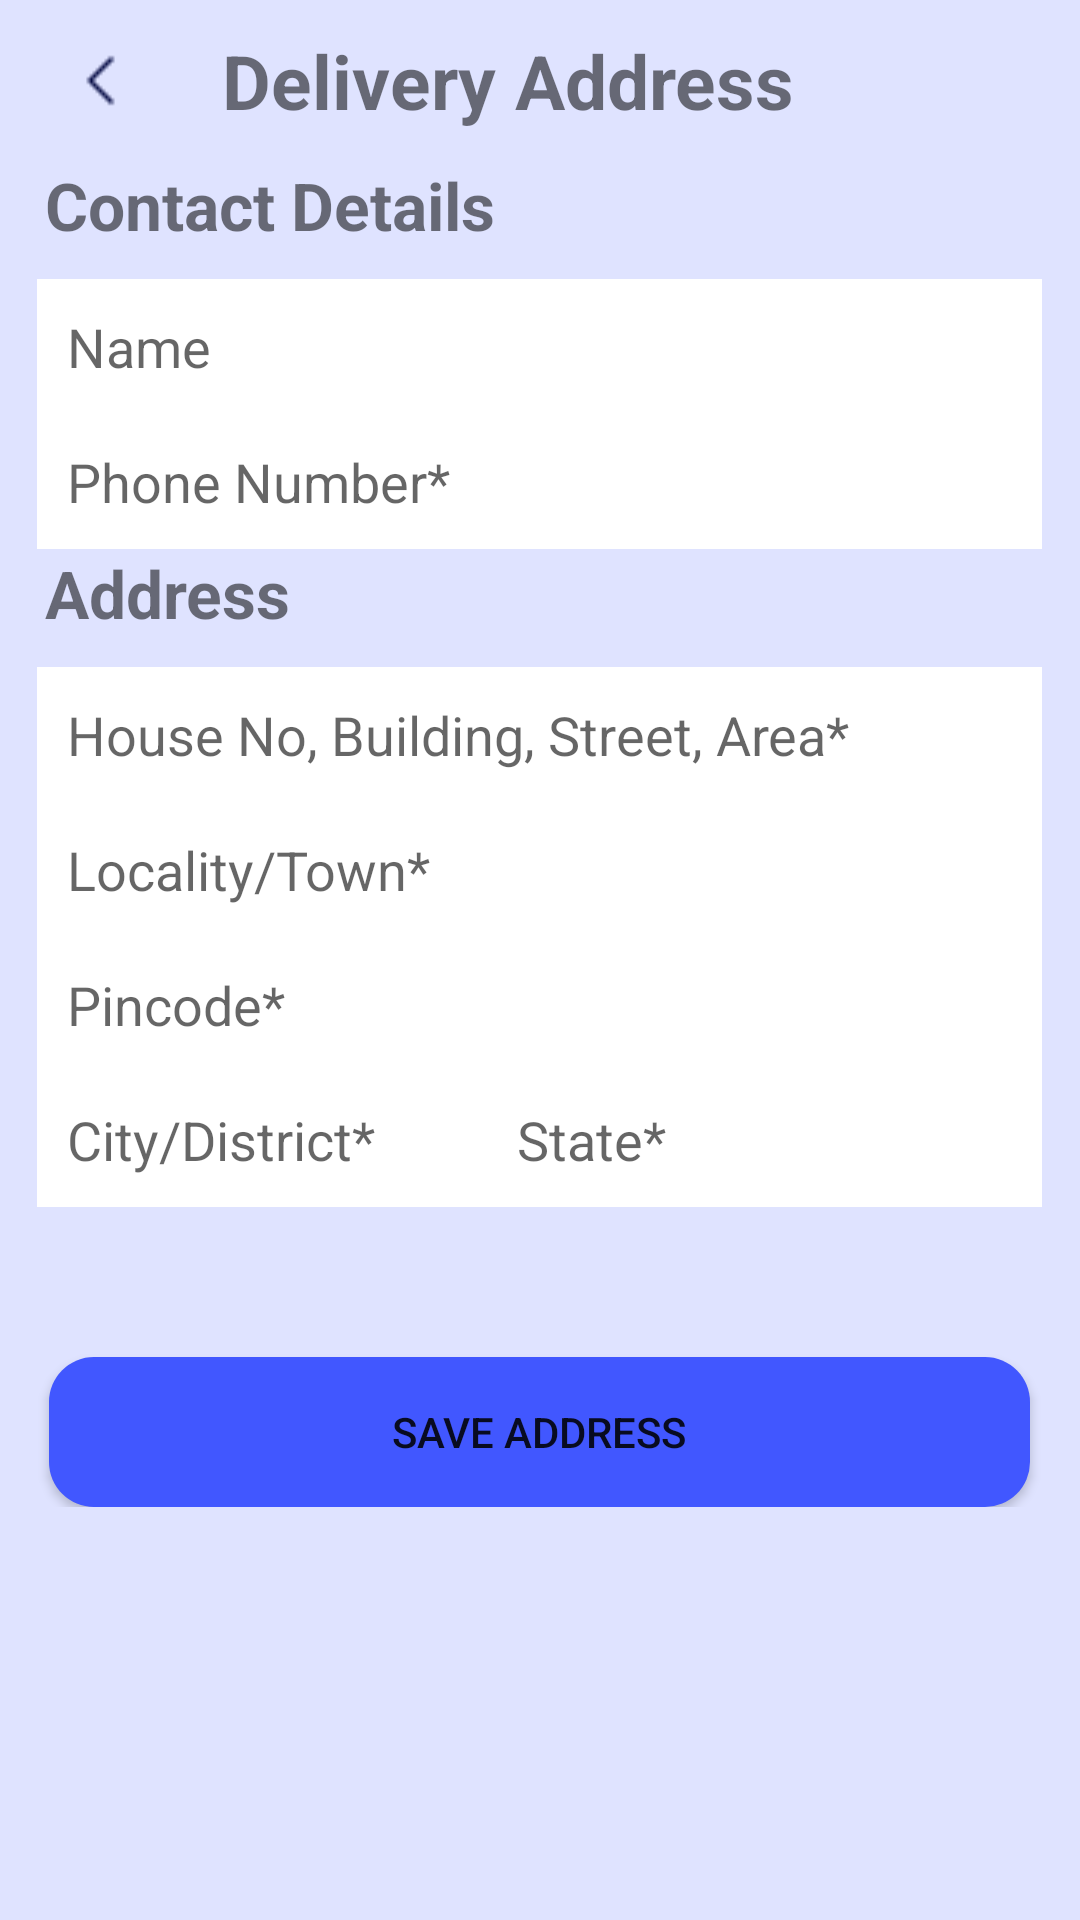

Icons on this 1080w x 1920h Android screen, each with the point to tap as (x,y):
back: (100,80)
